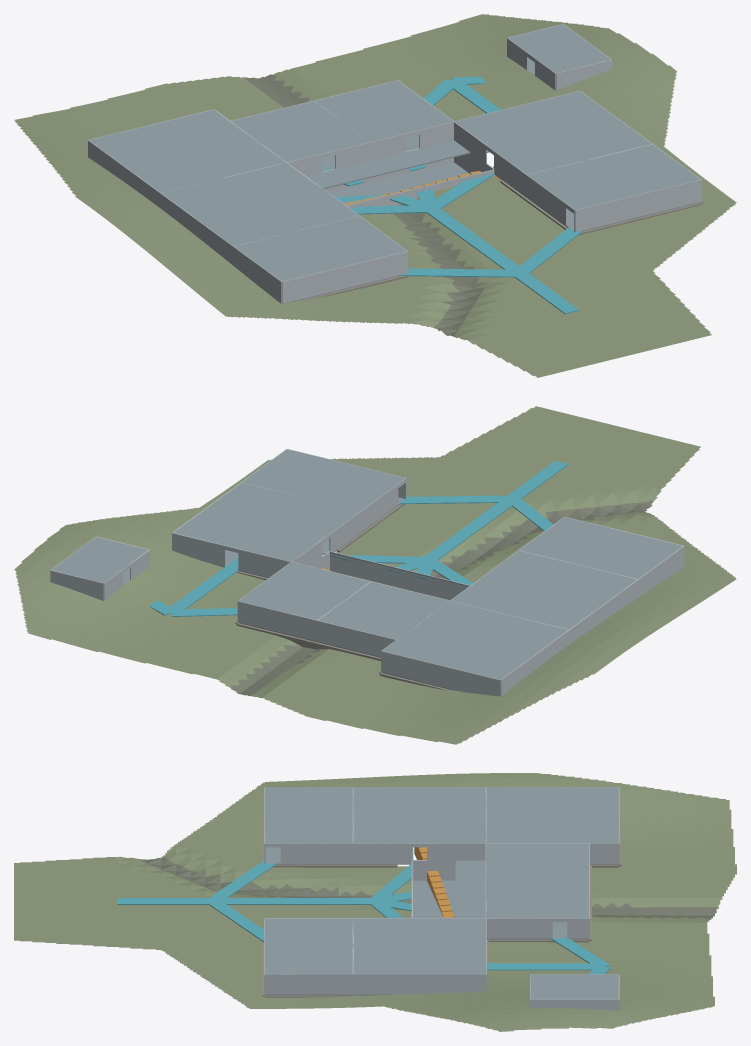
Rendered from supported-terrain.glb.
3 renders of one model, top to bottom at view 1: azimuth 30°, elevation 25°; view 2: azimuth 150°, elevation 25°; view 3: azimuth 270°, elevation 25°, orthographic. The views are drawn at different scales.
Visible parts, largest first — view 1: Saved editor macroterrain WLD-08, Ceiling cap lab, Ceiling cap dorm, Ceiling cap generator, Ceiling cap mess, Ceiling cap store, Ceiling cap radio, Ceiling cap records, Wall mess S, Wall store S, Ceiling cap shelter, Floor tunnel (+18 smaller); view 2: Saved editor macroterrain WLD-08, Ceiling cap dorm, Ceiling cap generator, Ceiling cap lab, Ceiling cap mess, Ceiling cap store, Ceiling cap radio, Ceiling cap records, Wall tunnel S, Wall generator N, Ceiling cap shelter, Wall records N (+12 smaller); view 3: Saved editor macroterrain WLD-08, Ceiling cap lab, Ceiling cap generator, Ceiling cap dorm, Ceiling cap mess, Ceiling cap store, Ceiling cap radio, Ceiling cap records, Wall dorm E, Ceiling cap shelter, Wall mess E, Wall store E (+17 smaller).
Boxes of the visible parts, x1,y1,x2,y2 form: Saved editor macroterrain WLD-08: (14,14,736,377); Ceiling cap lab: (161,162,358,246); Ceiling cap dorm: (454,91,651,174); Ceiling cap generator: (89,109,285,192); Ceiling cap mess: (527,144,700,210); Ceiling cap store: (234,216,407,281); Ceiling cap radio: (231,101,370,162); Ceiling cap records: (315,80,453,141); Wall mess S: (575,179,701,232); Wall store S: (282,251,407,303); Ceiling cap shelter: (508,24,610,73); Floor tunnel: (329,162,468,203); Saved editor macroterrain WLD-08: (14,406,736,744); Ceiling cap dorm: (173,483,359,561); Ceiling cap generator: (382,601,568,679); Ceiling cap lab: (450,550,636,629); Ceiling cap mess: (242,449,405,511); Ceiling cap store: (519,517,682,578); Ceiling cap radio: (318,581,449,639); Ceiling cap records: (238,562,369,619); Wall tunnel S: (330,551,470,600); Wall generator N: (381,651,500,696); Ceiling cap shelter: (51,537,148,583); Wall records N: (237,601,317,641); Saved editor macroterrain WLD-08: (14,773,736,1031); Ceiling cap lab: (353,787,485,843); Ceiling cap generator: (486,787,618,843); Ceiling cap dorm: (353,918,485,974); Ceiling cap mess: (265,918,353,974); Ceiling cap store: (265,787,353,843); Ceiling cap radio: (486,843,589,880); Ceiling cap records: (486,881,589,918); Wall dorm E: (353,974,485,994); Ceiling cap shelter: (530,974,618,999); Wall mess E: (265,974,353,994); Wall store E: (280,843,353,863).
Bounding box in the file's own units: 83 × 5.66 × 98.
